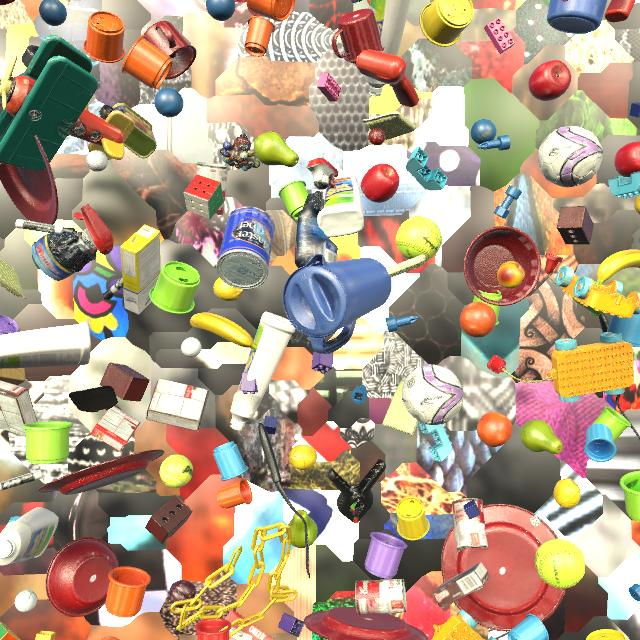ycb_002_master_chef_can: (216, 206, 275, 289)
ycb_003_cracker_box: (225, 609, 274, 640), (562, 0, 568, 2)
ycb_004_sugar_box: (120, 225, 161, 315)
ycb_005_tomato_soup_can: (451, 498, 488, 552), (355, 579, 407, 615), (196, 162, 228, 215)
ycb_008_pudding_box: (146, 378, 209, 431), (433, 562, 490, 608), (0, 380, 38, 437)
ycb_009_gelatin_box: (90, 406, 140, 452)
ycb_010_potted_meat_can: (113, 103, 157, 158)
ycb_011_banana: (190, 313, 257, 351), (595, 249, 640, 286)
ycb_013_apple: (528, 60, 571, 101), (361, 163, 400, 203), (614, 142, 640, 177)
ycb_014_lemon: (554, 478, 581, 508), (289, 444, 317, 470), (213, 278, 243, 301), (635, 194, 640, 215)
ycb_015_peach: (497, 261, 525, 289)
ycb_016_pear: (254, 132, 299, 167), (520, 419, 563, 454), (286, 510, 318, 548)
ycb_017_orange: (460, 302, 496, 338), (477, 412, 512, 447), (101, 636, 119, 640)
ycb_018_plum: (170, 580, 196, 608)
